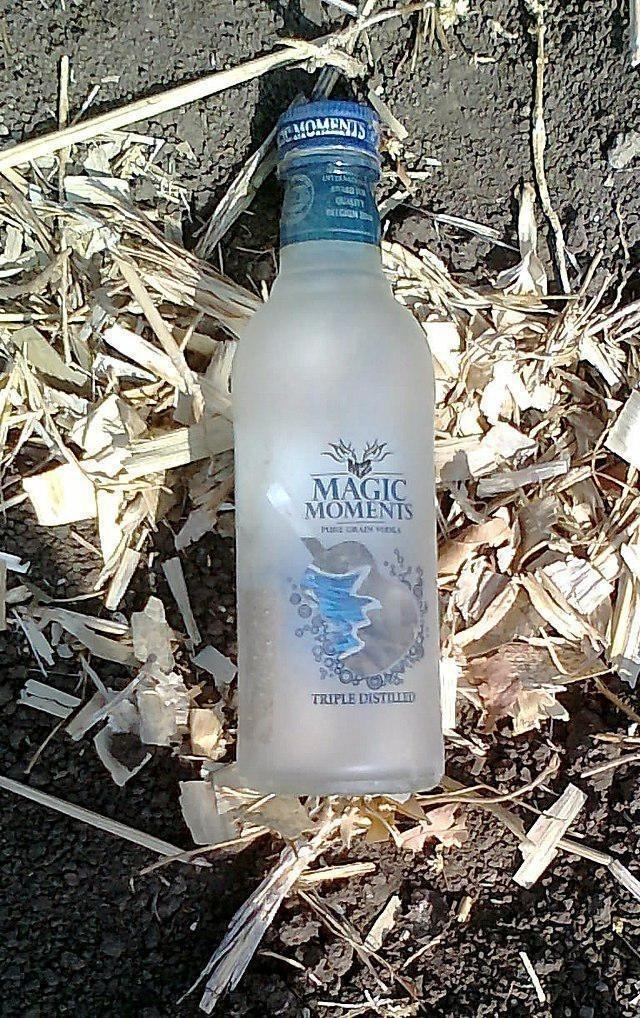bottle-glass: (226, 96, 448, 796)
